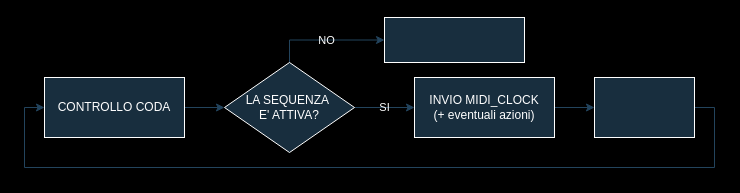
This 740x193 diagram has some shape labels left out. Each missing label, with the box of its shape:
DELAY: (594, 76, 694, 138)
SOSPENDI: (384, 16, 524, 62)
